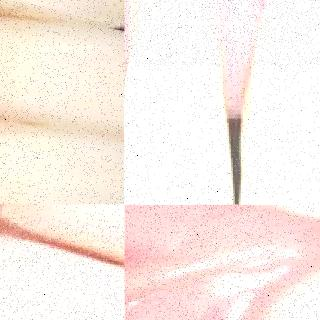Gum Swelling: (152, 204, 320, 320)
